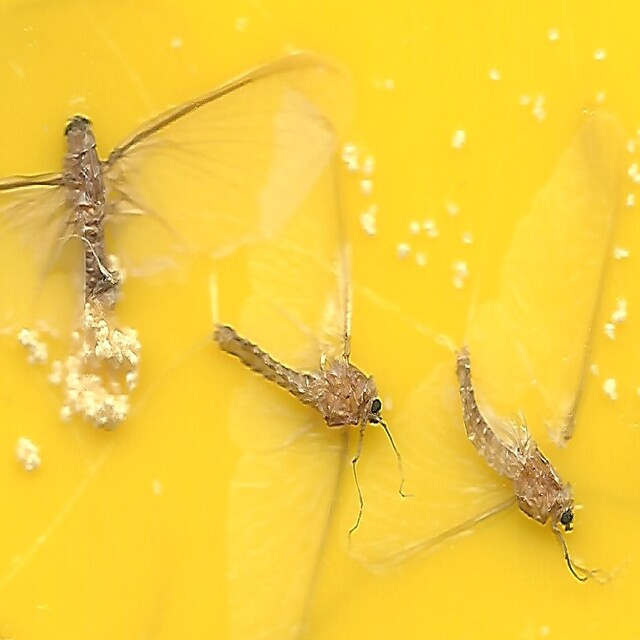Ephemeroptera: (455, 343, 577, 535), (213, 322, 381, 430), (63, 105, 121, 306)
